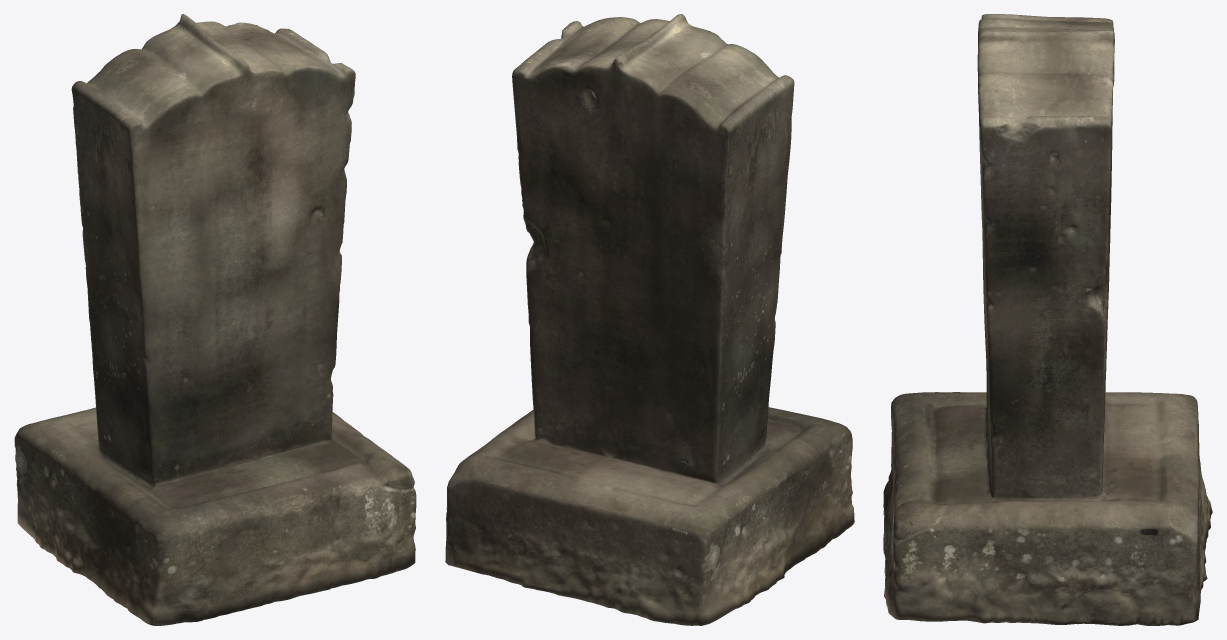
File: MysonMuseum_biadatheki12-13-03msd318_final.glb
3 views of the same model, side by side, from view 1: azimuth 30°, elevation 25°; view 2: azimuth 150°, elevation 25°; view 3: azimuth 270°, elevation 25° (orthographic). The views are drawn at different scales.
Bounding box in the file's own units: 1.06 × 1.85 × 1.05.
Materials: 1 (1 with a texture image).
